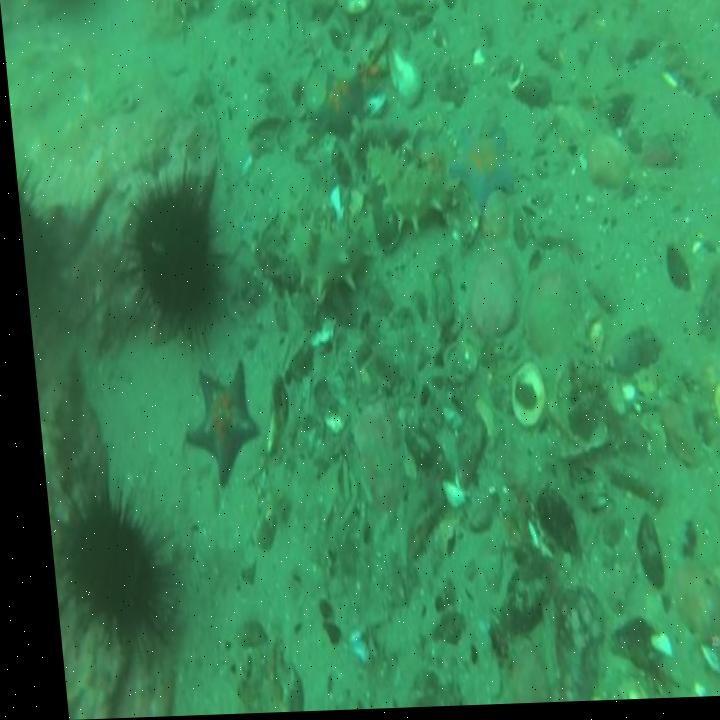echinus: (35, 464, 174, 670), (107, 156, 235, 356), (12, 159, 62, 354)
holothurian: (269, 182, 372, 311), (359, 137, 459, 235)
starfish: (169, 360, 256, 496), (447, 124, 521, 215), (302, 66, 369, 151)
